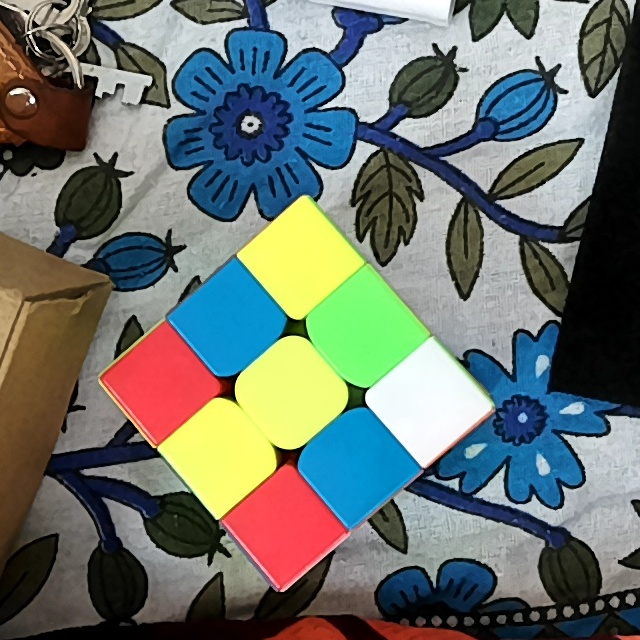tile: (327, 299, 393, 363), (258, 358, 322, 424), (393, 372, 459, 431), (251, 494, 313, 556), (323, 435, 387, 495), (188, 424, 251, 483), (132, 350, 192, 410), (198, 291, 258, 347), (268, 231, 328, 287)
